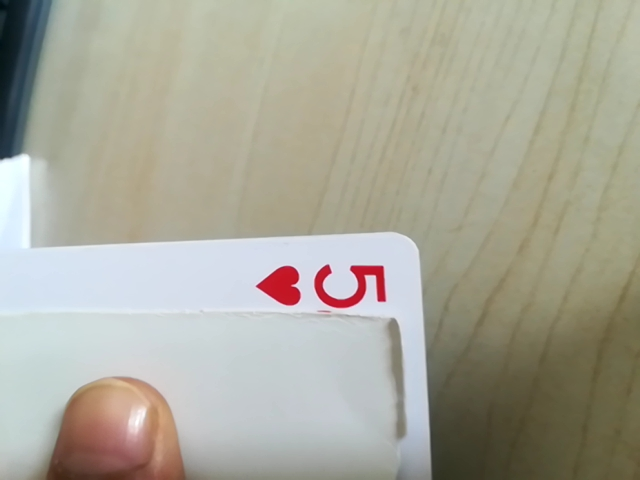hx 5: (241, 243, 414, 333)
